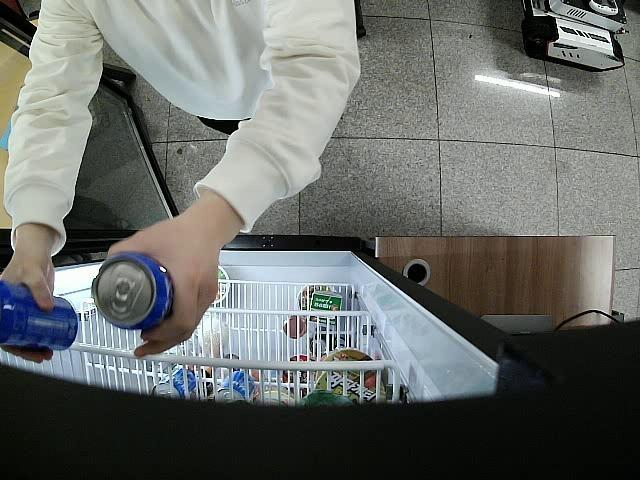13_pocariSweat: (90, 253, 174, 331), (0, 280, 79, 352)
